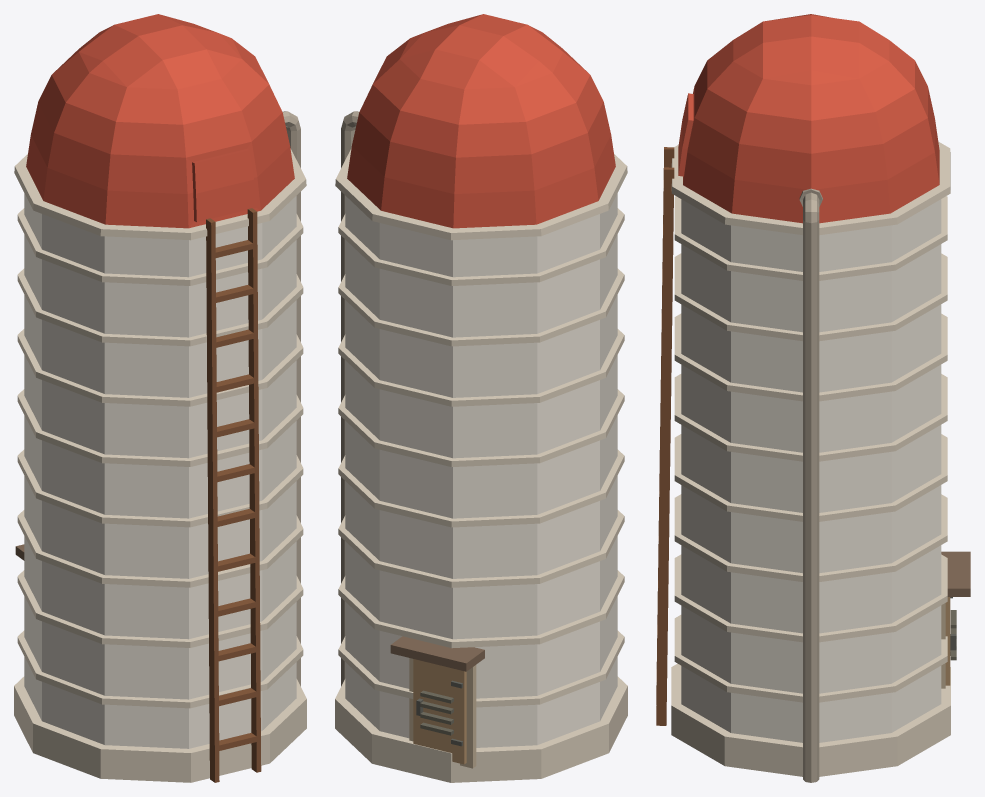
Rendered from silo.glb.
The picture shows the model from 3 angles, left to right: view 1: azimuth 30°, elevation 25°; view 2: azimuth 150°, elevation 25°; view 3: azimuth 270°, elevation 25°; orthographic projection.
Parts seen in each view (by area): view 1: Silo_Cylinder.007; view 2: Silo_Cylinder.007, Feed_hatch; view 3: Silo_Cylinder.007, Feed_hatch.
Part boxes in pixels (x1,y1,x2,y2): Silo_Cylinder.007: [14, 14, 306, 782]; Silo_Cylinder.007: [335, 14, 627, 782]; Feed_hatch: [390, 636, 484, 768]; Silo_Cylinder.007: [656, 14, 950, 782]; Feed_hatch: [941, 551, 970, 688].
Size of the model in its own units: 3.67 by 9.07 by 3.75.
